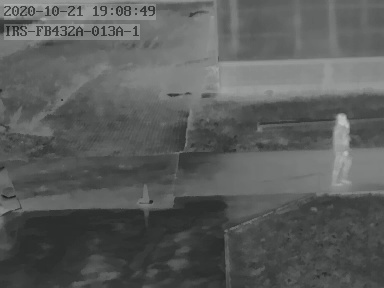person: (328, 110, 353, 185)
